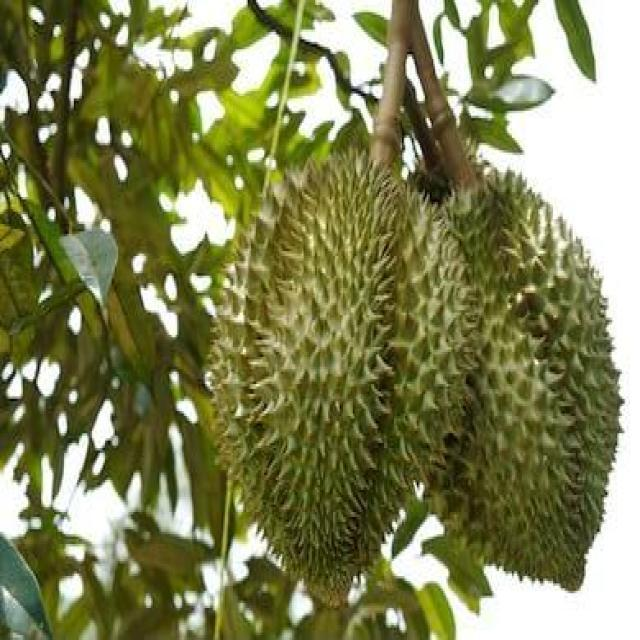immature: (202, 137, 474, 589)
